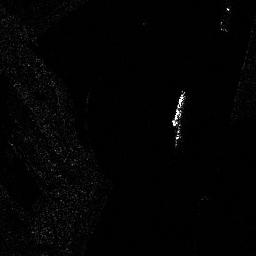ship: (171, 88, 186, 127)
